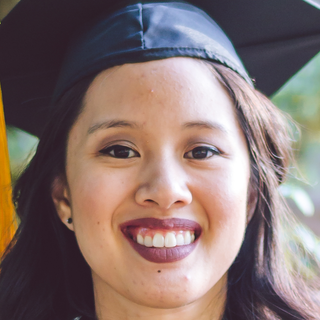eye: (94, 139, 143, 164), (181, 140, 227, 165)
